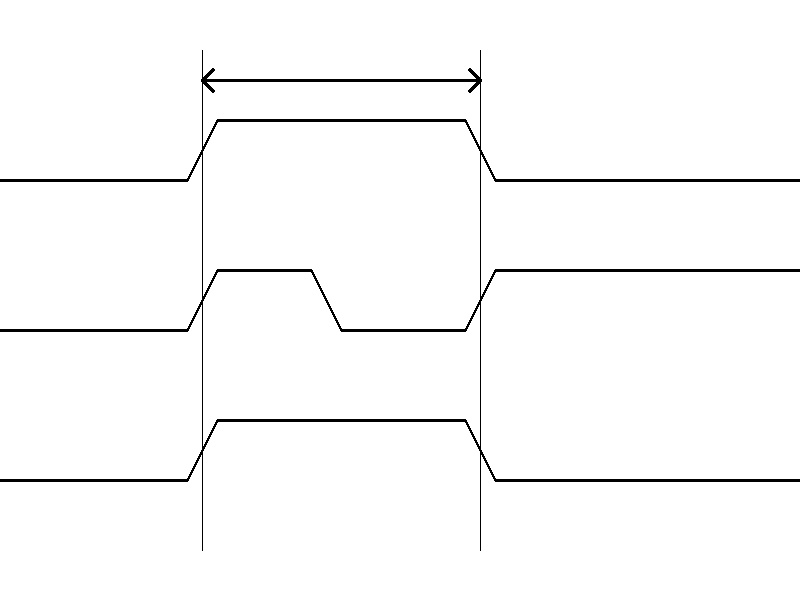double_arrow: (202, 65, 480, 95)
